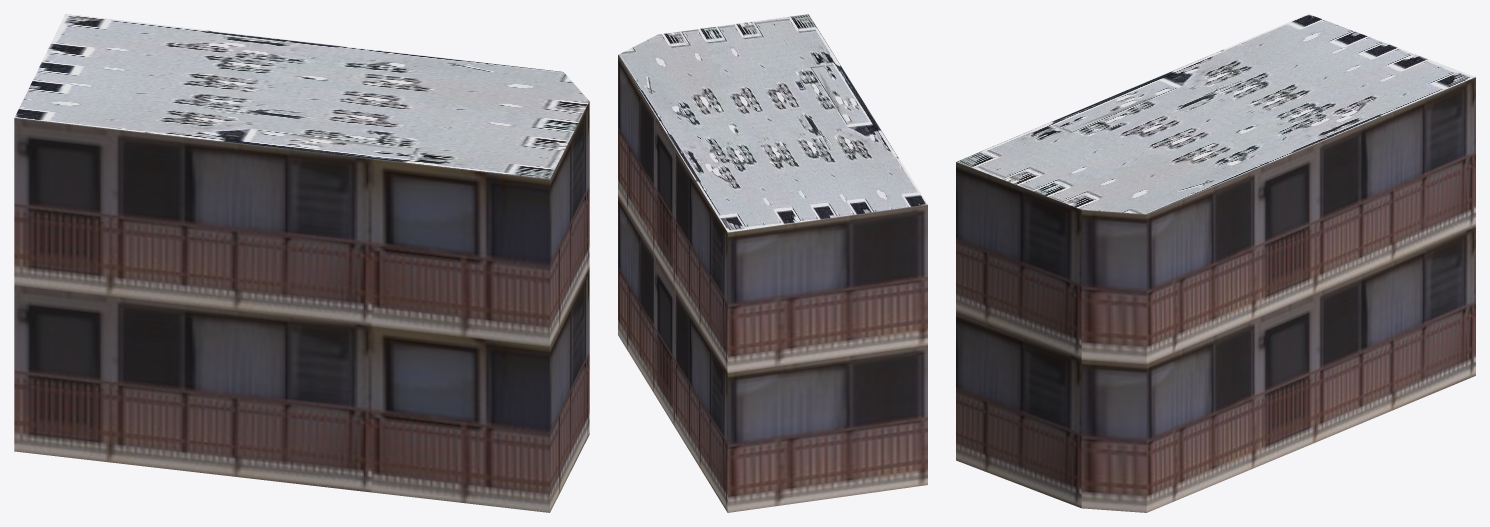
File: ResTex__4302.fbx
3 renders of one model, left to right at view 1: azimuth 30°, elevation 25°; view 2: azimuth 150°, elevation 25°; view 3: azimuth 270°, elevation 25°, orthographic. The views are drawn at different scales.
Visible parts, largest first — view 1: CityEngineMaterial_6_m, CityEngineMaterial_4_m; view 2: CityEngineMaterial_6_m, CityEngineMaterial_4_m; view 3: CityEngineMaterial_6_m, CityEngineMaterial_4_m.
Part boxes in pixels (<box>): CityEngineMaterial_6_m: <box>14,101,589,512</box>; CityEngineMaterial_4_m: <box>14,14,589,179</box>; CityEngineMaterial_6_m: <box>618,55,927,512</box>; CityEngineMaterial_4_m: <box>618,14,927,232</box>; CityEngineMaterial_6_m: <box>956,77,1475,512</box>; CityEngineMaterial_4_m: <box>956,14,1475,214</box>.
Bounding box in the file's own units: 8.63 × 6 × 9.47.
2 materials, 2 textured.
